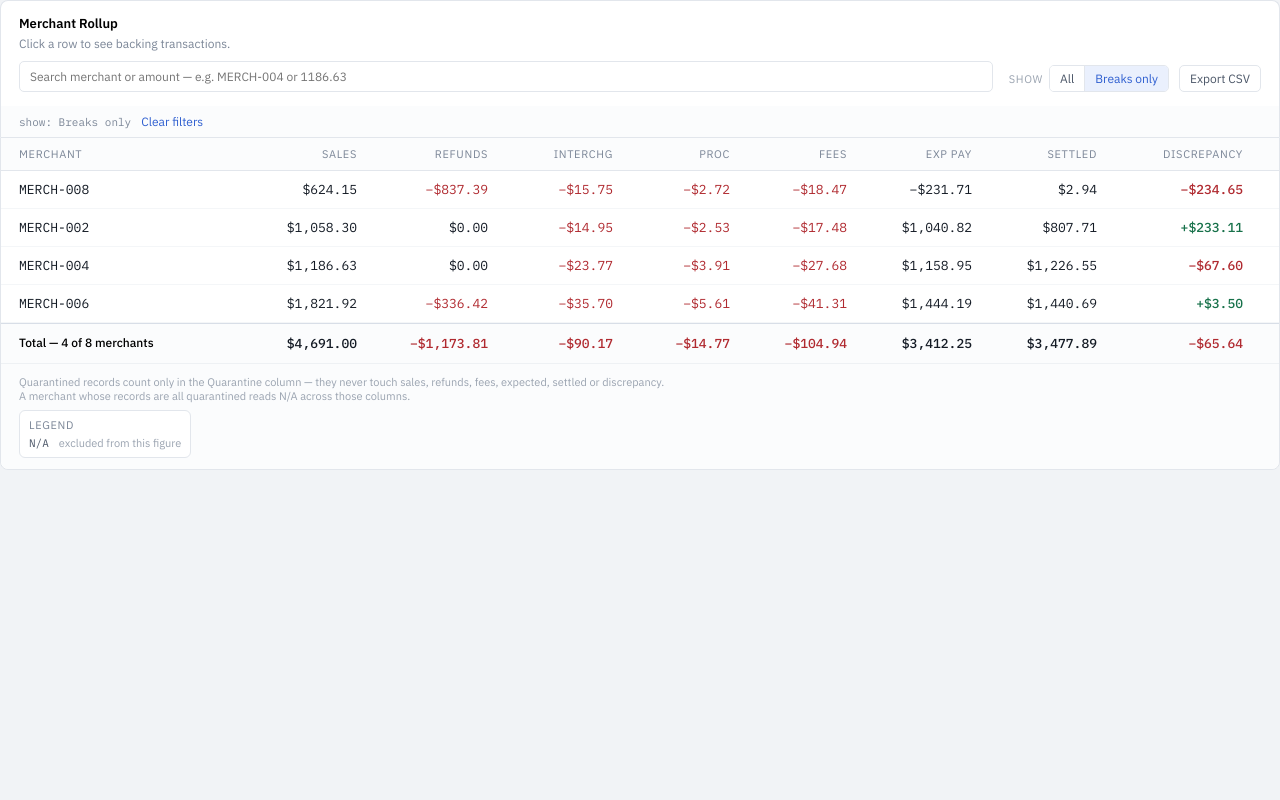
Test: MerchantTable › breaks-only filter › restores the full roster
The image size is (1280, 800).
Click the button "All" at (1067, 78), box [1050, 66, 1084, 91]
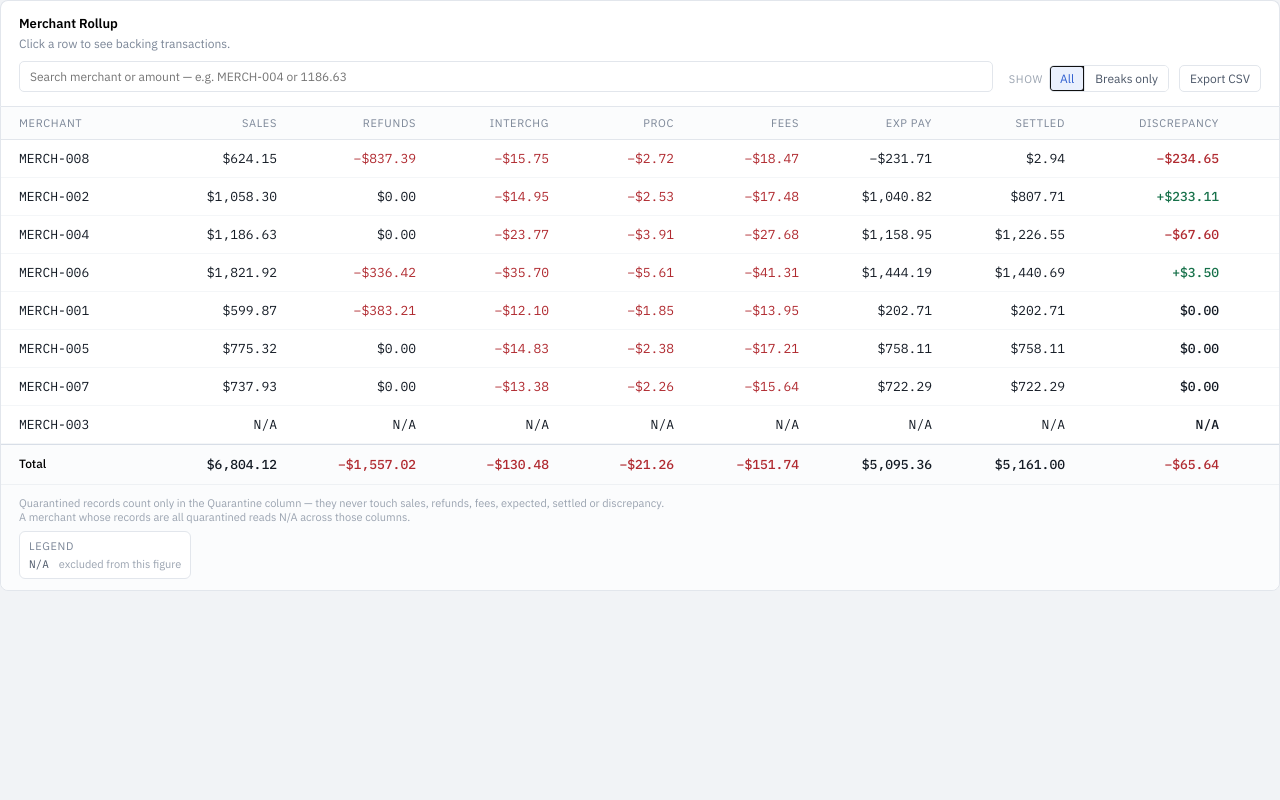
Now the text "show: Breaks only" is gone
